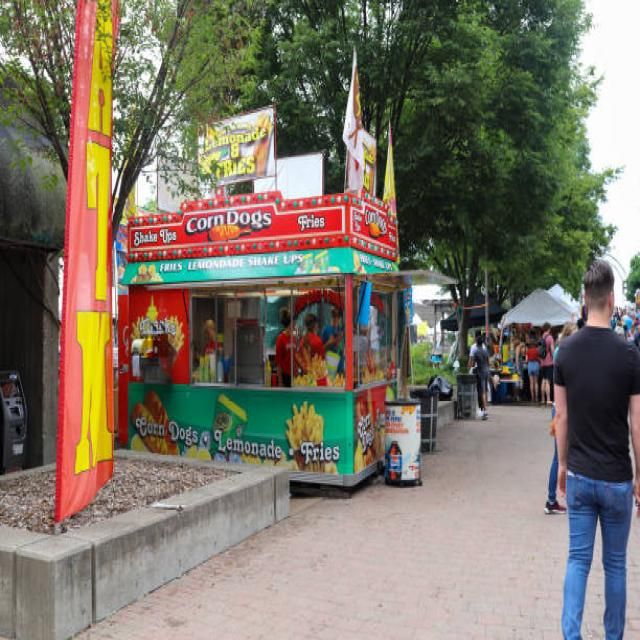Emperan: (97, 188, 415, 517)
